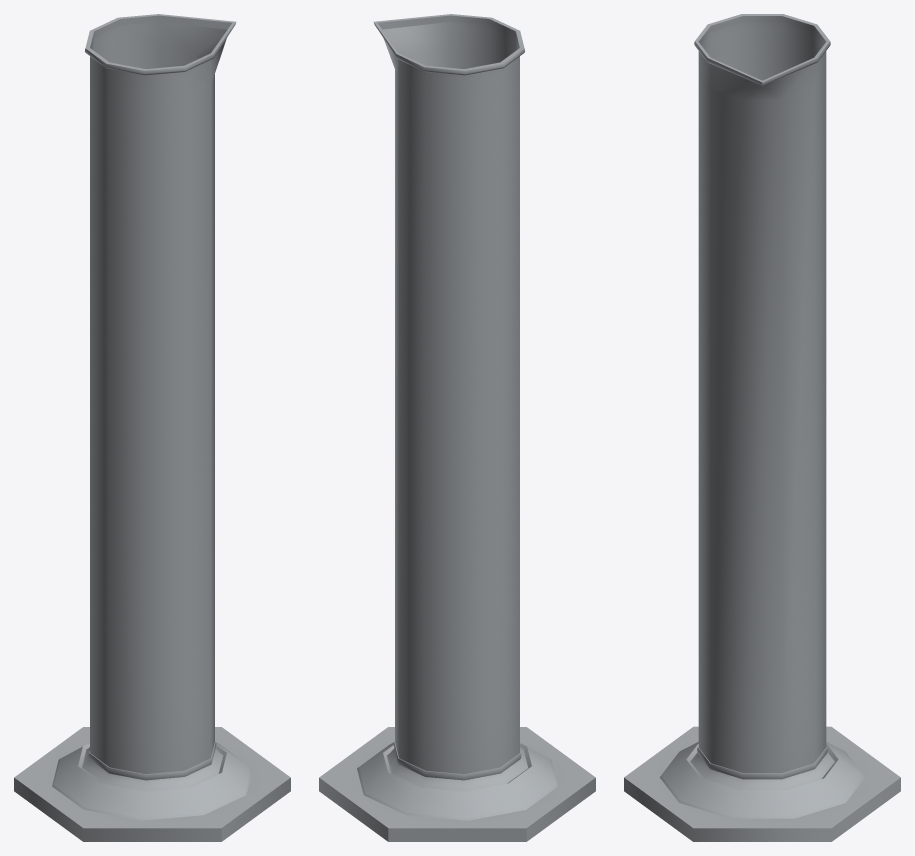
File: TLLGraduatedCylinder.glb
3 renders of one model, left to right at view 1: azimuth 30°, elevation 25°; view 2: azimuth 150°, elevation 25°; view 3: azimuth 270°, elevation 25°, orthographic.
Parts seen in each view (by area): view 1: CylinderLowPolyPlasticGlossyGlass; view 2: CylinderLowPolyPlasticGlossyGlass; view 3: CylinderLowPolyPlasticGlossyGlass.
Part boxes in pixels (bbox=[...]): CylinderLowPolyPlasticGlossyGlass: bbox=[14, 14, 290, 841]; CylinderLowPolyPlasticGlossyGlass: bbox=[319, 14, 595, 841]; CylinderLowPolyPlasticGlossyGlass: bbox=[624, 14, 900, 841].
Size of the model in its own units: 1.73 by 5.97 by 2.
1 material, 1 textured.
